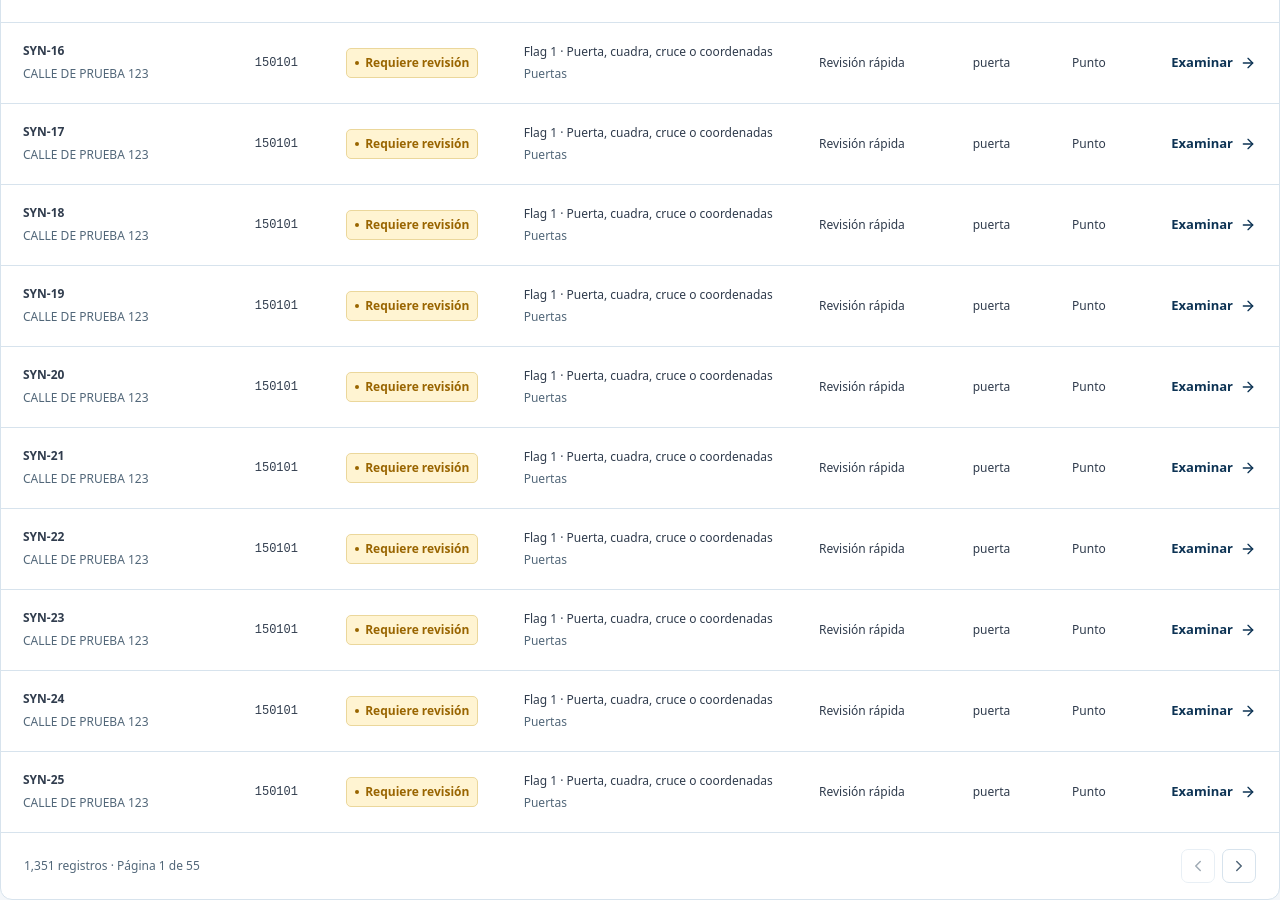
Scenario: visible result totals › shows the API total beside filters and the actual range across pages, not the number of rows loaded
(page scrolled)
What coordinates should you click on to do the following:
click the button named "Página siguiente"
I would click on:
 (1239, 866)
Its box is x1=1222 y1=848 x2=1256 y2=882.
(page scrolled)
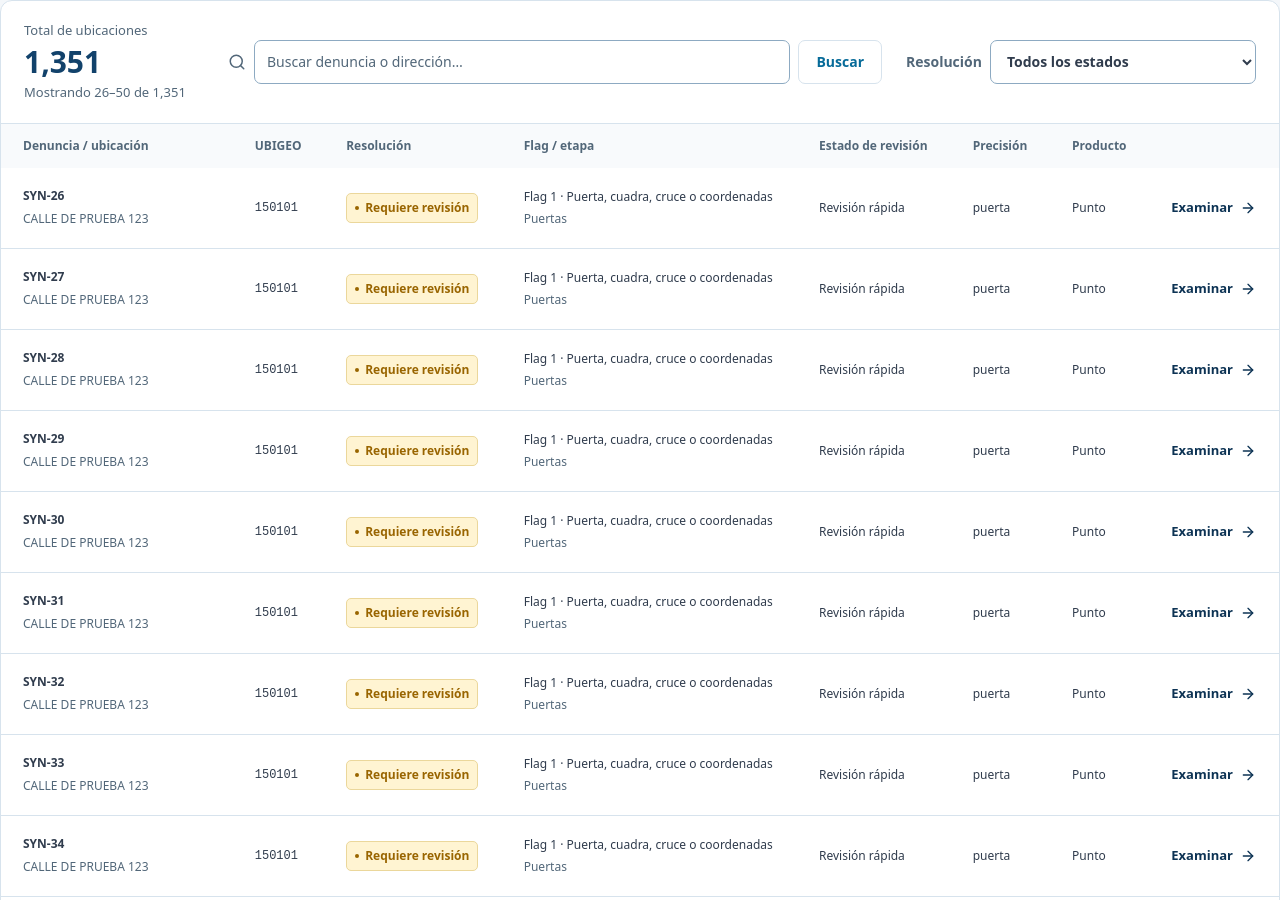
Result: the message named "Total de resultados" shows "Mostrando 26–50 de 1,351" at x1=24 y1=83 x2=186 y2=101
